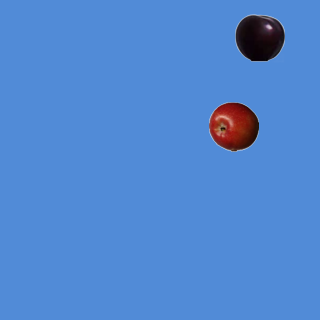Apple Braeburn: (208, 101, 258, 151)
Cherry Wax Black: (234, 12, 284, 62)
